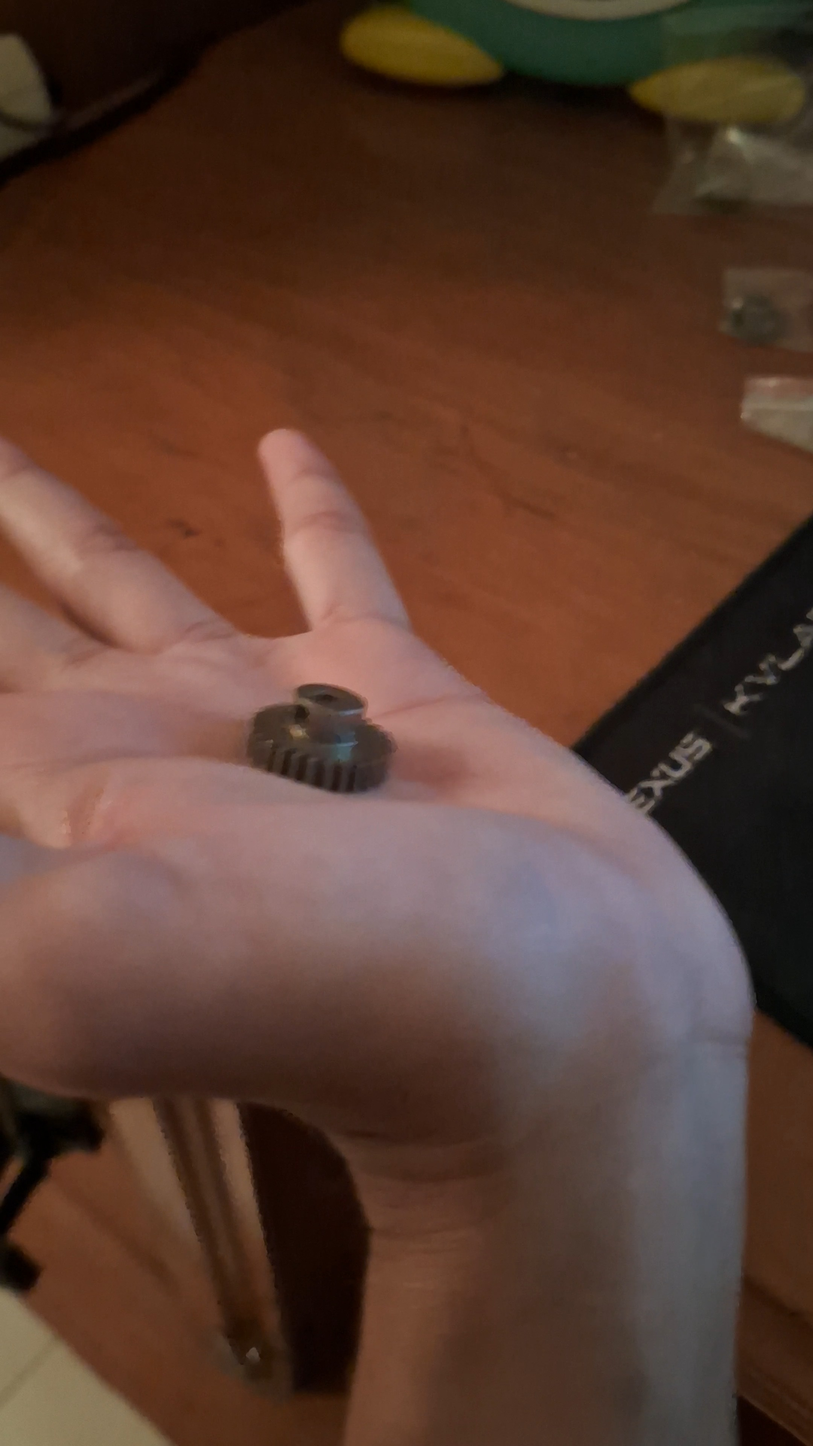spur gear: (247, 683, 394, 795)
